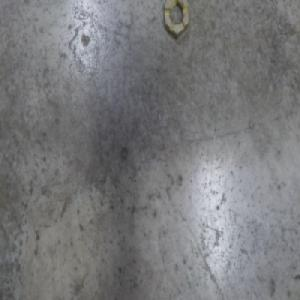Nut: (163, 0, 189, 40)
